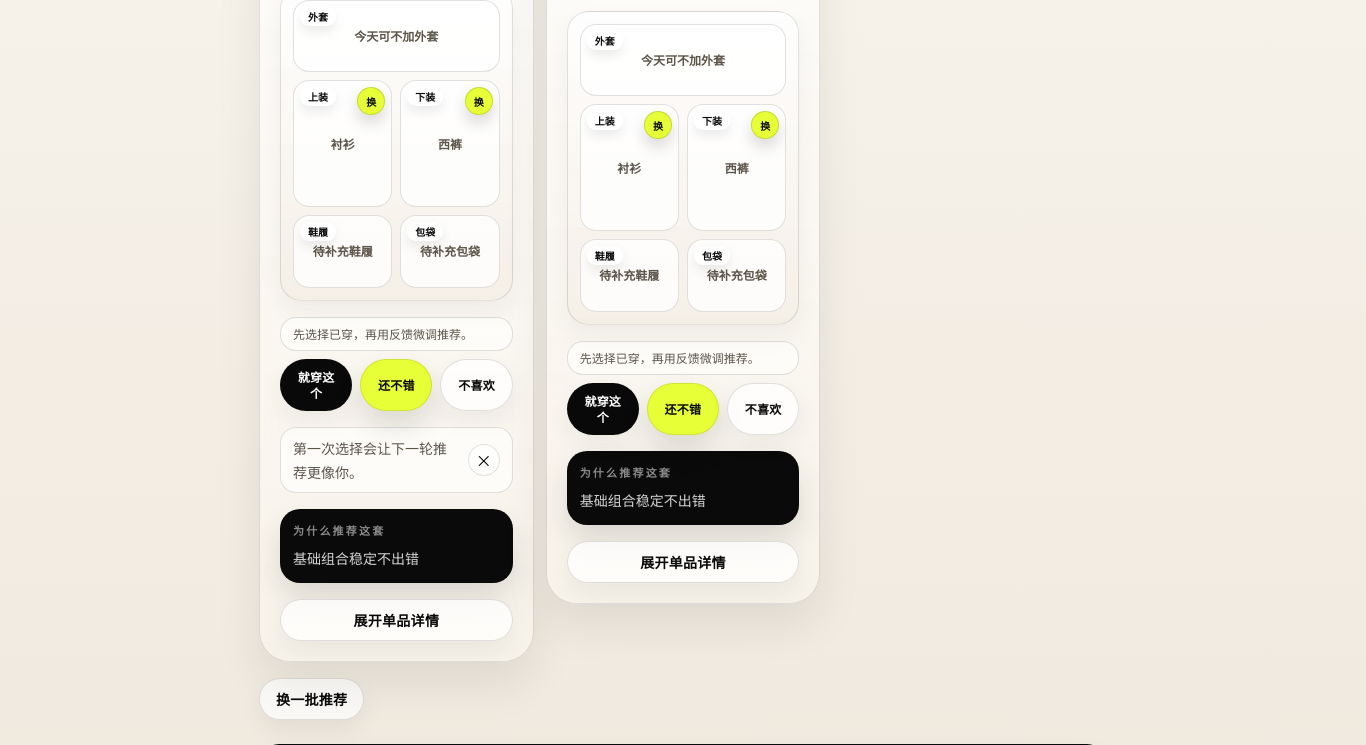
Test case: TodayPage › locks the selected recommendation after choosing it for today
(page scrolled)
Click the 1st button "就穿这个" at (316, 385), box left=280, top=359, right=352, bottom=411
(page scrolled)
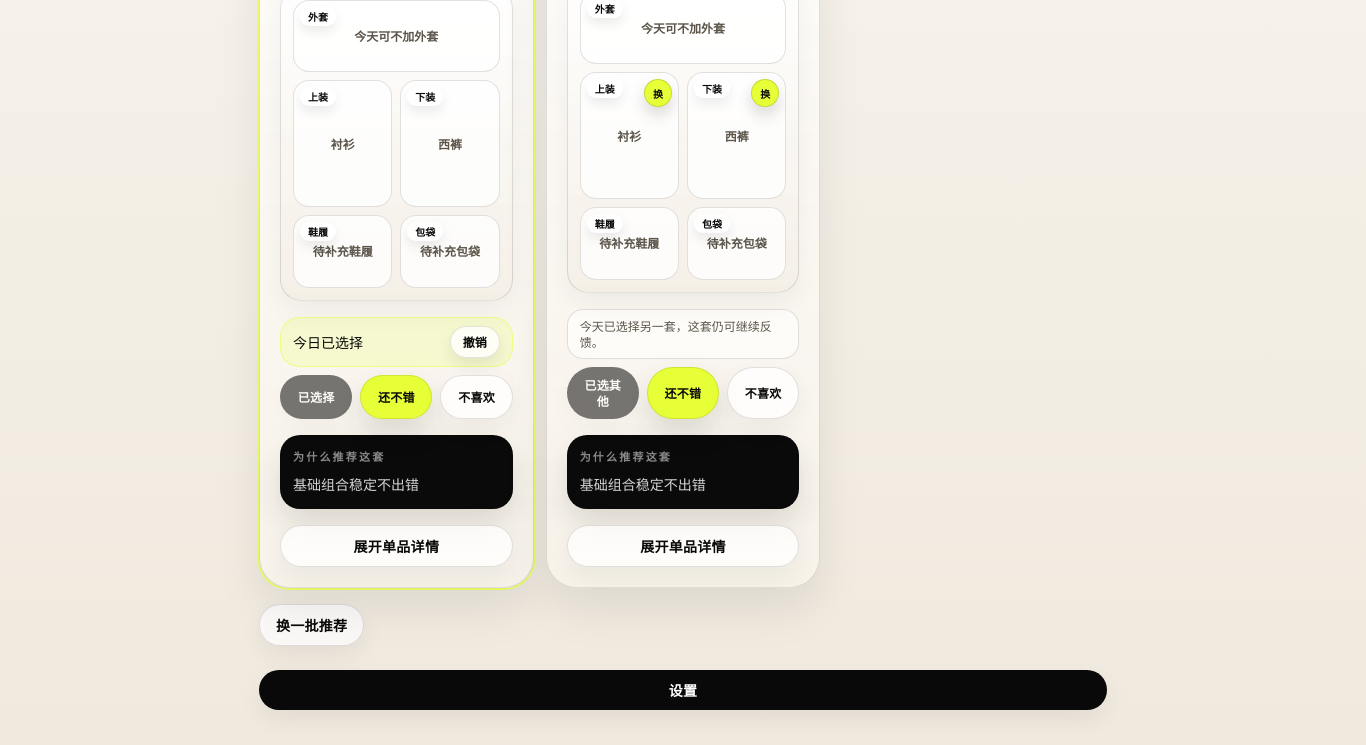
Check: the text "今日已选择" is shown, box left=293, top=332, right=363, bottom=352
Check: the button "撤销" is shown, box left=450, top=326, right=500, bottom=358
Check: the text "今天已选择另一套，这套仍可继续反馈。" is shown, box left=580, top=318, right=786, bottom=350
